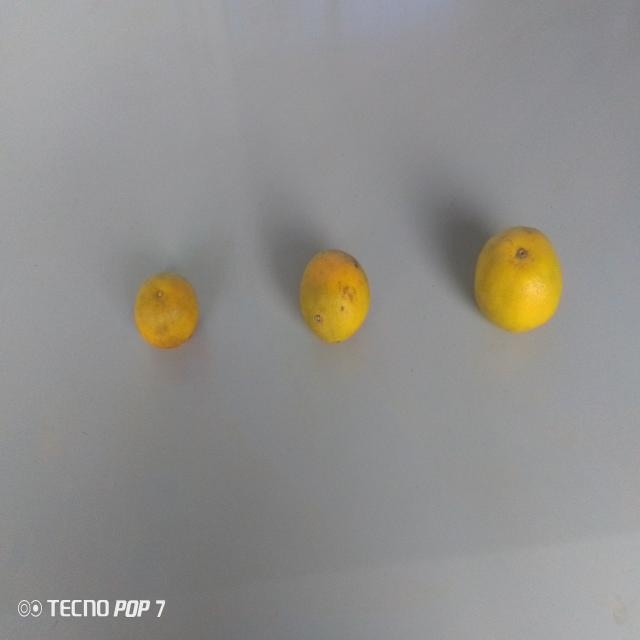agrume: (471, 217, 564, 344), (287, 238, 377, 354), (130, 265, 205, 366)
